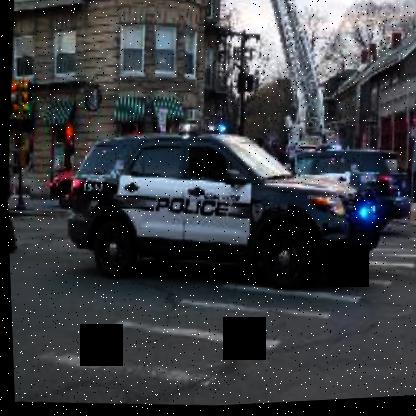emergency: (58, 106, 390, 305), (262, 135, 415, 242)
not_emergency: (43, 159, 97, 212)
